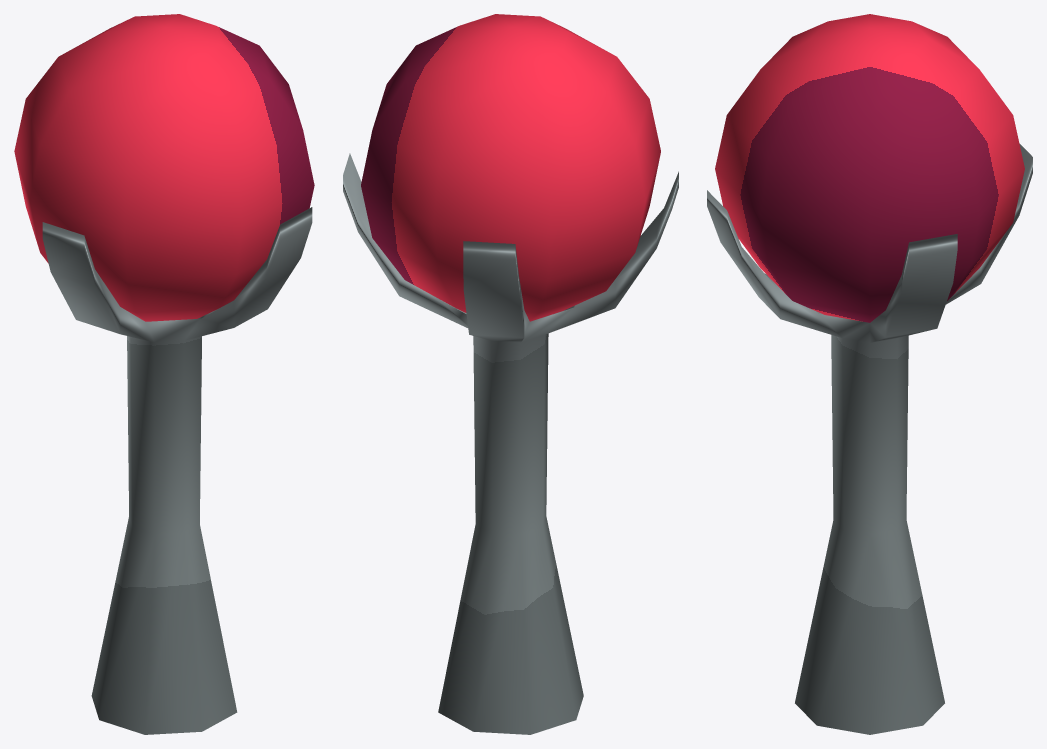
File: SM_switch.fbx
3 renders of one model, left to right at view 1: azimuth 30°, elevation 25°; view 2: azimuth 150°, elevation 25°; view 3: azimuth 270°, elevation 25°, orthographic.
Visible parts, largest first — view 1: switch1; view 2: switch1; view 3: switch1.
Boxes of the visible parts, x1,y1,x2,y2 form: switch1: (14, 14, 314, 734); switch1: (343, 14, 678, 734); switch1: (707, 14, 1032, 734).
Bounding box in the file's own units: 54.12 × 124 × 54.12.
